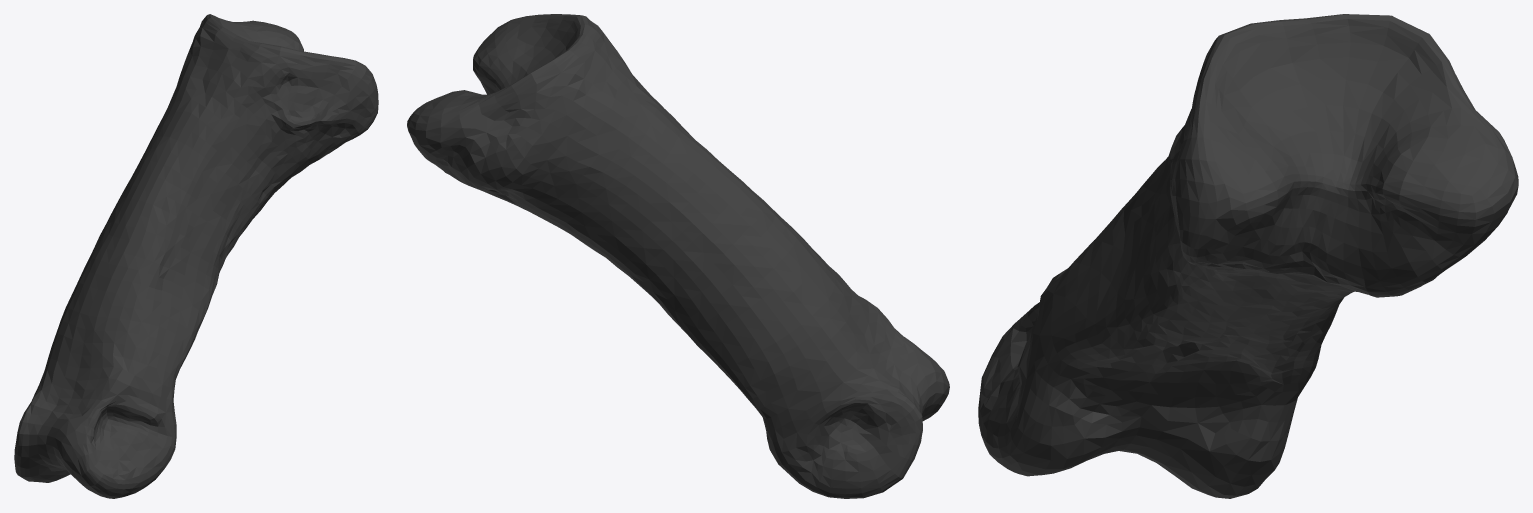
Rendered from proximal_phalanx_V_L.glb.
3 views of the same model, side by side, from view 1: azimuth 30°, elevation 25°; view 2: azimuth 150°, elevation 25°; view 3: azimuth 270°, elevation 25° (orthographic). The views are drawn at different scales.
Visible parts, largest first — view 1: proximal_phalanx_V_L; view 2: proximal_phalanx_V_L; view 3: proximal_phalanx_V_L.
Boxes of the visible parts, <box> form: proximal_phalanx_V_L: <box>14,14,378,498</box>; proximal_phalanx_V_L: <box>407,14,949,498</box>; proximal_phalanx_V_L: <box>978,14,1518,498</box>.
Bounding box in the file's own units: 0.031 × 0.0294 × 0.0222.
1 material, 1 textured.
